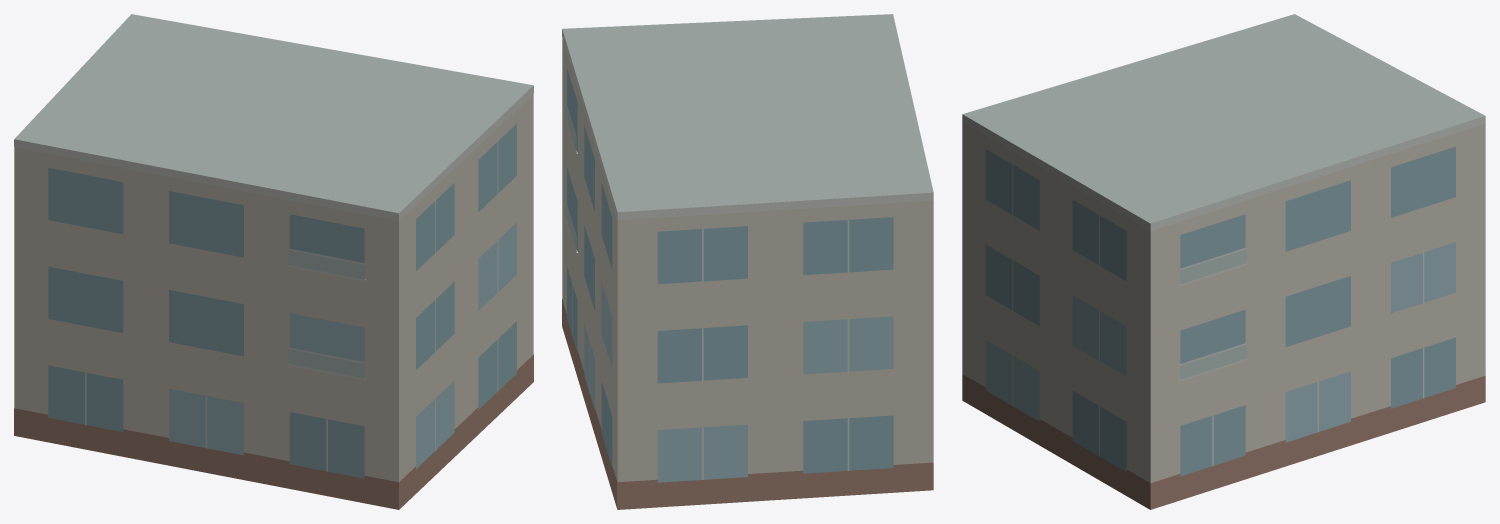
File: survey-upis-32774859.glb
3 views of the same model, side by side, from view 1: azimuth 30°, elevation 25°; view 2: azimuth 150°, elevation 25°; view 3: azimuth 270°, elevation 25° (orthographic). The views are drawn at different scales.
Visible parts, largest first — view 1: survey-upis-32774859.tmp; view 2: survey-upis-32774859.tmp; view 3: survey-upis-32774859.tmp.
Part boxes in pixels (x1=…): survey-upis-32774859.tmp: x1=14, y1=14, x2=533, y2=509; survey-upis-32774859.tmp: x1=562, y1=14, x2=933, y2=509; survey-upis-32774859.tmp: x1=962, y1=14, x2=1485, y2=509.
Size of the model in its own units: 14.37 by 9.15 by 15.16.
